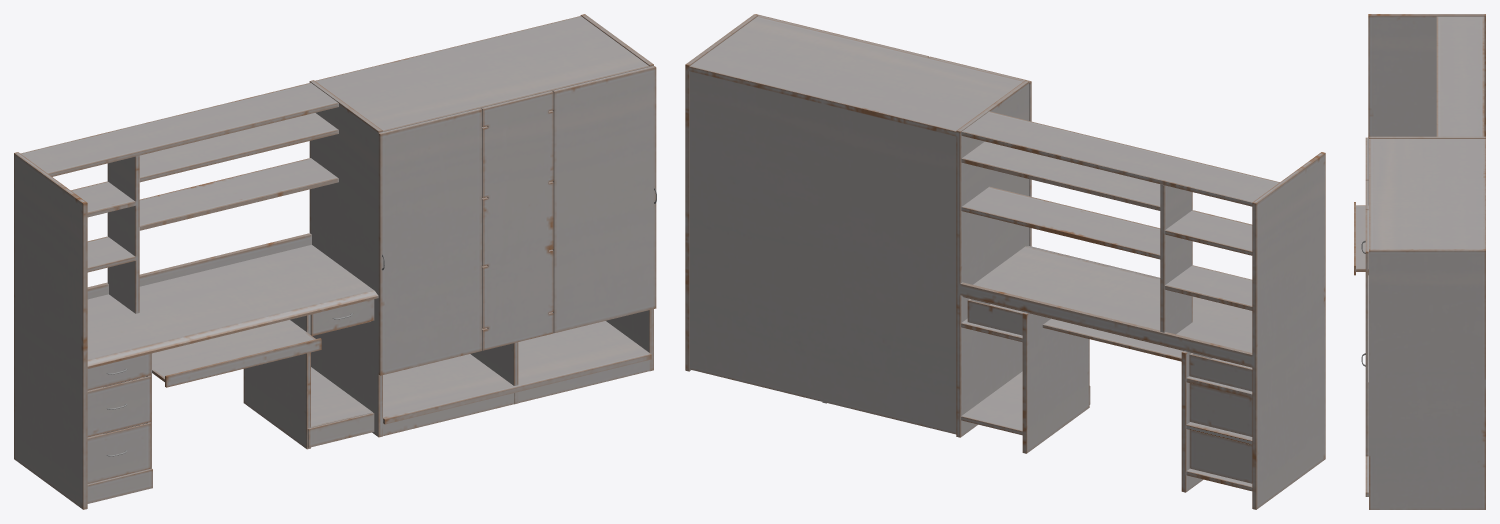
The model's file is Beds Cupboard.fbx.
The picture shows the model from 3 angles, left to right: view 1: azimuth 30°, elevation 25°; view 2: azimuth 150°, elevation 25°; view 3: azimuth 270°, elevation 25°; orthographic projection. The views are drawn at different scales.
Parts seen in each view (by area): view 1: group10_shuangrenchuang_t_0.001; view 2: group10_shuangrenchuang_t_0.001; view 3: group10_shuangrenchuang_t_0.001.
Boxes of the visible parts, left/top/right/bottom form: group10_shuangrenchuang_t_0.001: left=14, top=14, right=656, bottom=509; group10_shuangrenchuang_t_0.001: left=685, top=14, right=1325, bottom=509; group10_shuangrenchuang_t_0.001: left=1354, top=14, right=1485, bottom=509.
Size of the model in its own units: 285 by 146 by 67.34.
Materials: 1 (1 with a texture image).
